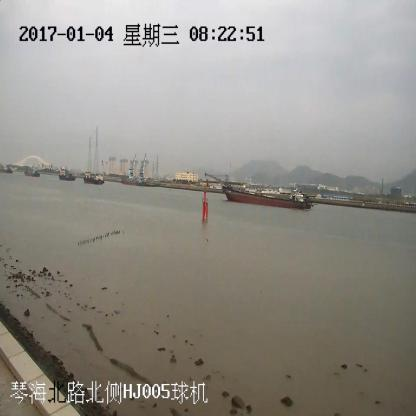Bulk Carrier: (206, 171, 312, 209)
